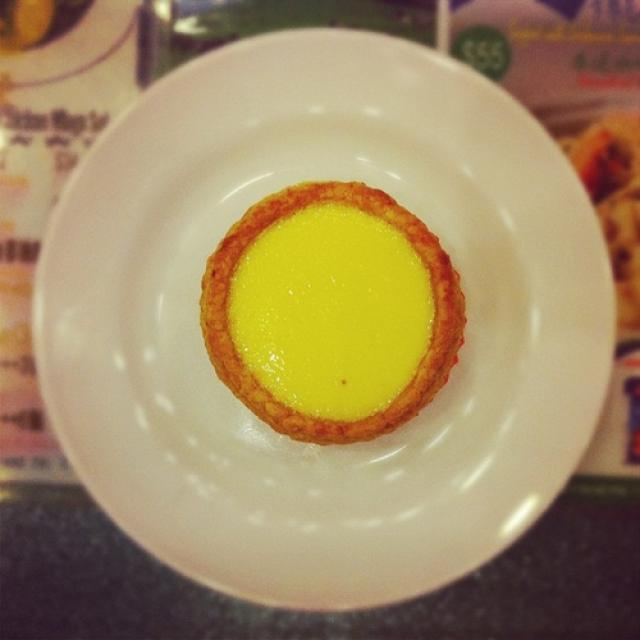炸货点心: (47, 26, 603, 604)
蛋糕甜品: (47, 26, 603, 604)
